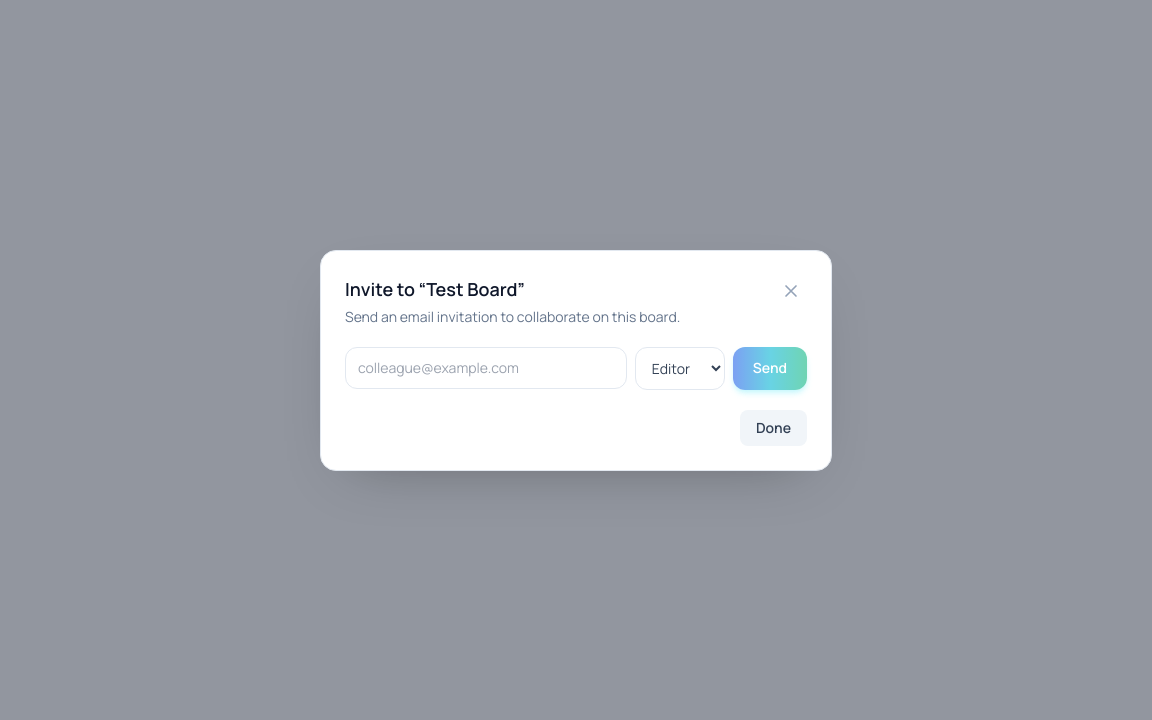
it: InviteModal › sends invite on button click
Type "test@example.com" into the field with placeholder "colleague@example.com". click: (486, 368)
box: x1=345 y1=346 x2=627 y2=388
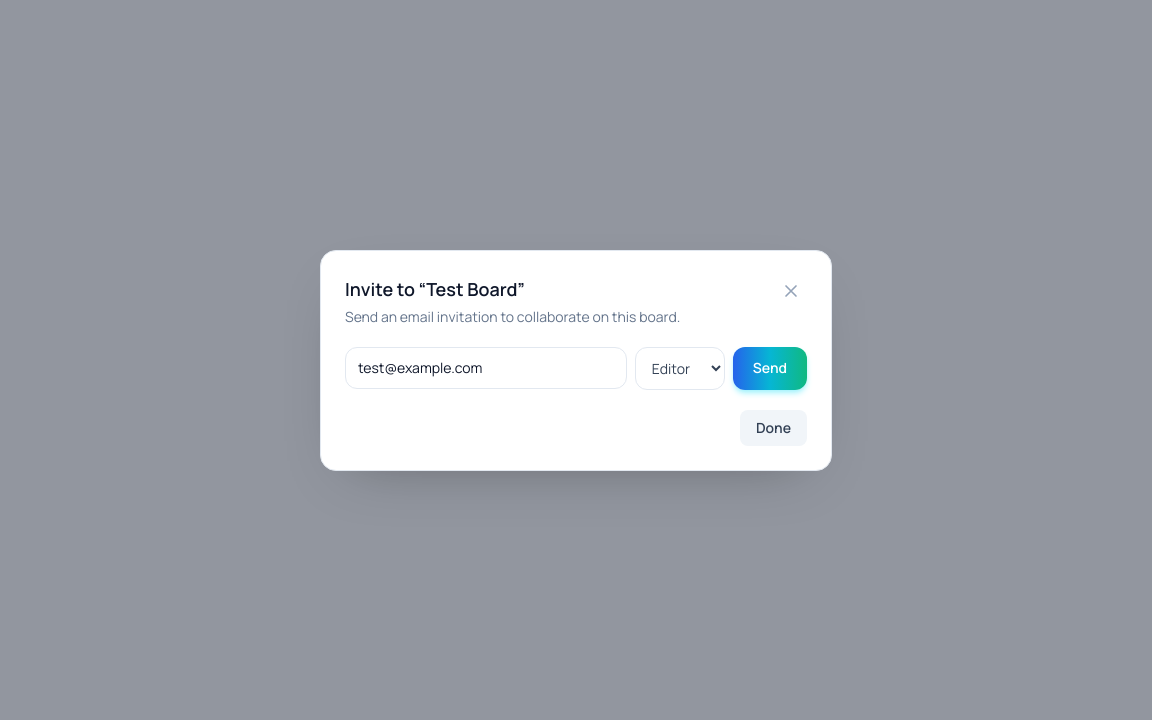
Click the button "Send". click: (770, 368)
box: x1=733 y1=346 x2=807 y2=390
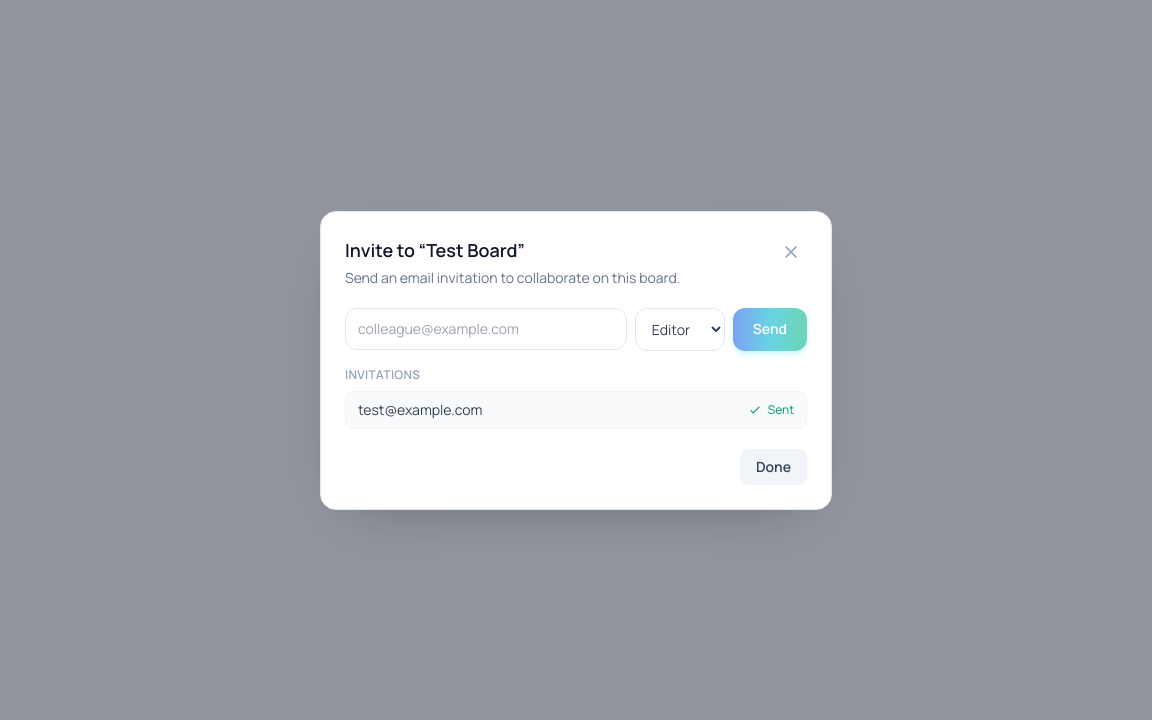
Result: the text "test@example.com" is shown at x1=358 y1=400 x2=482 y2=420
